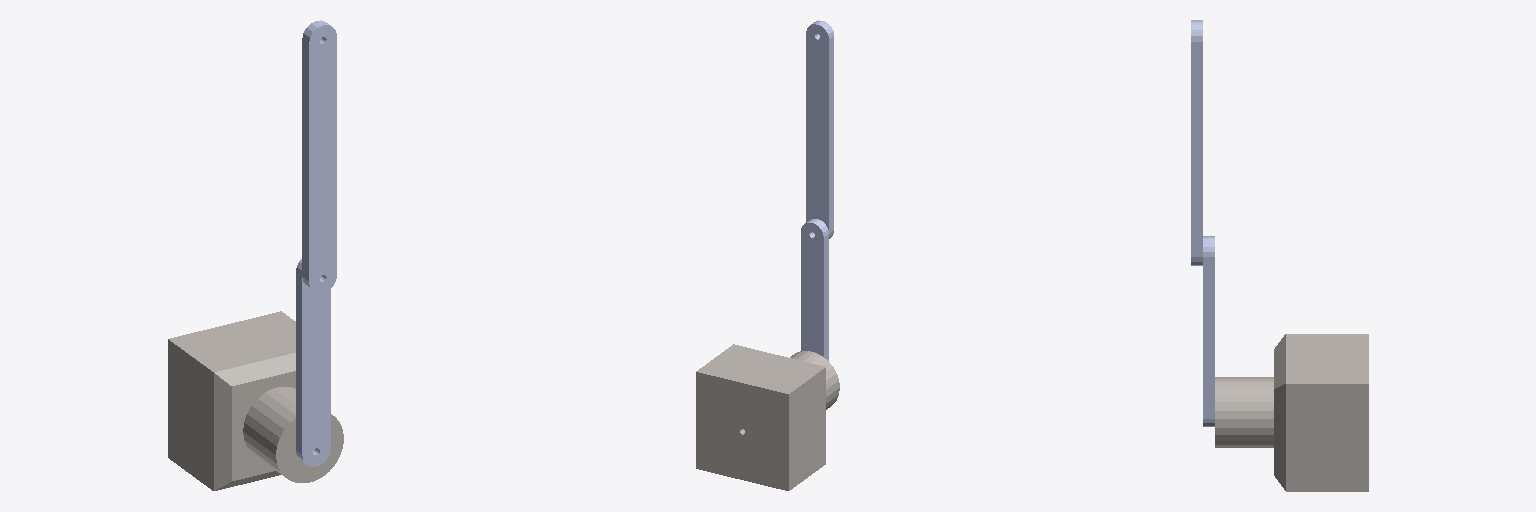
The robot description file, URDF, robot "scrap_arm":
<robot name="scrap_arm">
  <link name="base_link">
    <inertial>
      <origin xyz="0 0 0" rpy="0 0 0" />
      <mass value="7.0765" />
      <inertia ixx="0" ixy="0" ixz="0" iyy="0" iyz="0" izz="0" />
    </inertial>
    <visual>
      <origin xyz="0 0 0" rpy="0 0 0" />
      <geometry>
        <mesh filename="package://scrap_arm/meshes/base_link.STL" />
      </geometry>
      <material name="">
        <color rgba="0.77647 0.75686 0.73725 1" />
      </material>
    </visual>
    <collision>
      <origin xyz="0 0 0" rpy="0 0 0" />
      <geometry>
        <mesh
          filename="package://scrap_arm/meshes/base_link.STL" />
      </geometry>
    </collision>
  </link>

  <link
    name="Link00">
    <inertial>
      <origin xyz="0 0.075 -0.005" rpy="0 0 0" />
      <mass value="0.041843" />
      <inertia ixx="0" ixy="0" ixz="0" iyy="0" iyz="0" izz="0" />
    </inertial>
    <visual>
      <origin xyz="0 0 0" rpy="0 0 0" />
      <geometry>
        <mesh filename="package://scrap_arm/meshes/Link00.STL" />
      </geometry>
      <material
        name="">
        <color rgba="0.79216 0.81961 0.93333 1" />
      </material>
    </visual>
    <collision>
      <origin xyz="0 0 0" rpy="0 0 0" />
      <geometry>
        <mesh filename="package://scrap_arm/meshes/Link00.STL" />
      </geometry>
    </collision>
  </link>
  <joint name="Joint00" type="continuous">
    <origin xyz="0 -0.13 0" rpy="1.5708 0 3.1416" />
    <parent link="base_link" />
    <child link="Link00" />
    <axis xyz="0 0 -1" />
    <limit effort="0" velocity="0" />
  </joint>

  <link
    name="Link01">
    <inertial>
      <origin xyz="0 0.1 -0.005" rpy="0 0 0" />
      <mass value="0.054343" />
      <inertia ixx="0" ixy="0" ixz="0" iyy="0" iyz="0" izz="0" />
    </inertial>
    <visual>
      <origin xyz="0 0 0" rpy="0 0 0" />
      <geometry>
        <mesh filename="package://scrap_arm/meshes/Link01.STL" />
      </geometry>
      <material name="">
        <color rgba="0.79216 0.81961 0.93333 1" />
      </material>
    </visual>
    <collision>
      <origin xyz="0 0 0" rpy="0 0 0" />
      <geometry>
        <mesh filename="package://scrap_arm/meshes/Link01.STL" />
      </geometry>
    </collision>
  </link>
  <joint name="Joint01" type="continuous">
    <origin xyz="0 0.15 -0.01" rpy="0 0 0" />
    <parent link="Link00" />
    <child link="Link01" />
    <axis xyz="0 0 -1" />
    <limit effort="0" velocity="0" />
  </joint>
</robot>

--- Facts derived from the render (not from the file) ---
The picture shows the robot from 3 angles, left to right: view 1: azimuth 30°, elevation 25°; view 2: azimuth 150°, elevation 25°; view 3: azimuth 270°, elevation 25°; orthographic projection.
Robot: scrap_arm — 3 links, 2 joints (2 continuous); root link base_link; default pose: every joint at zero.
Links seen in each view (by area): view 1: base_link, Link01, Link00; view 2: base_link, Link01, Link00; view 3: base_link, Link01, Link00.
Boxes of the visible links, bbox=[...] form: base_link: bbox=[168, 311, 343, 490]; Link01: bbox=[302, 20, 336, 292]; Link00: bbox=[296, 259, 330, 466]; base_link: bbox=[696, 344, 839, 490]; Link01: bbox=[806, 20, 833, 238]; Link00: bbox=[801, 219, 828, 360]; base_link: bbox=[1215, 334, 1368, 491]; Link01: bbox=[1191, 20, 1202, 265]; Link00: bbox=[1203, 236, 1214, 426].
Bounding box of the posed robot: 0.1 × 0.15 × 0.4125 m (x, y, z).
3 mesh visuals loaded from 3 distinct referenced files (3 binary STL).